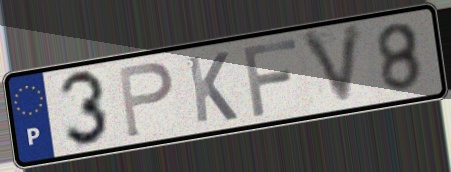3: (56, 67, 113, 151)
8: (374, 19, 428, 95)
F: (240, 36, 301, 120)
K: (184, 49, 241, 126)
P: (115, 59, 176, 141)
V: (296, 19, 367, 111)
